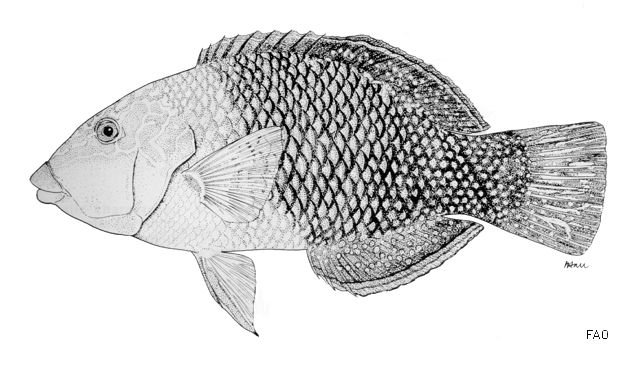fish: (29, 29, 608, 338)
